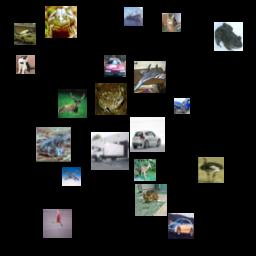airplane: (134, 61, 166, 93), (62, 167, 81, 186)
automobile: (130, 117, 165, 152), (168, 213, 194, 239), (14, 23, 36, 45), (104, 55, 126, 77)
bird: (43, 209, 72, 238), (198, 157, 224, 183)
cat: (135, 184, 167, 216), (162, 13, 181, 32), (16, 55, 35, 74)
deer: (58, 89, 87, 118), (134, 159, 156, 181)
frog: (36, 127, 71, 162), (45, 6, 77, 38), (95, 83, 127, 115), (214, 22, 243, 51)
ship: (124, 7, 143, 26)
truck: (91, 132, 129, 170), (174, 98, 190, 114)
